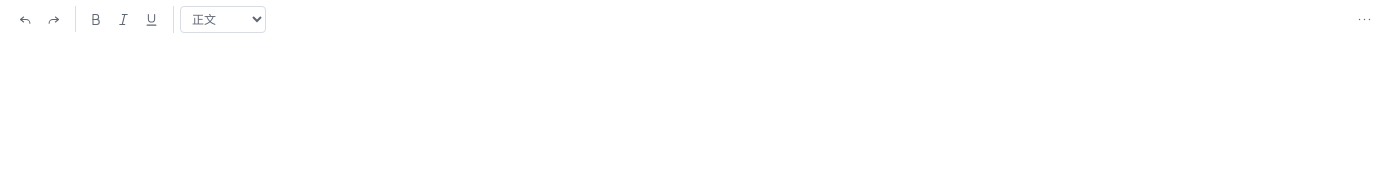
Test case: DocxToolbar responsive grouping › groups history/character/style/list/alignment and moves lower-priority controls into overflow
Expected: the element named "DOCX 格式工具栏" is shown, left=12, top=0, right=1377, bottom=38
Expected: the element named "历史" is shown, left=12, top=6, right=66, bottom=32
Click the heading named "更多格式" at (1364, 19), box left=1356, top=10, right=1372, bottom=28
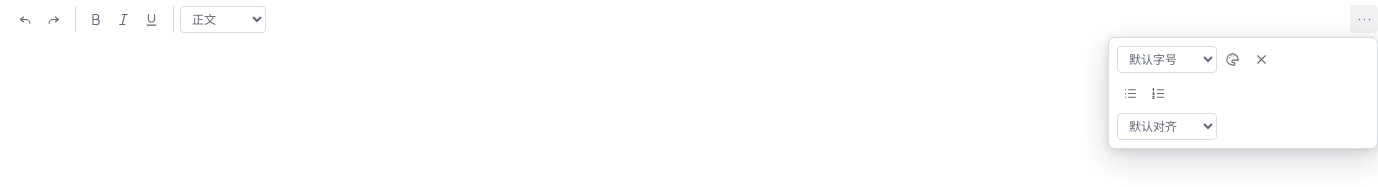
Now the element named "列表" is shown, box left=1117, top=80, right=1171, bottom=106
Now the dropdown named "字号" is shown, box left=1117, top=46, right=1217, bottom=73
